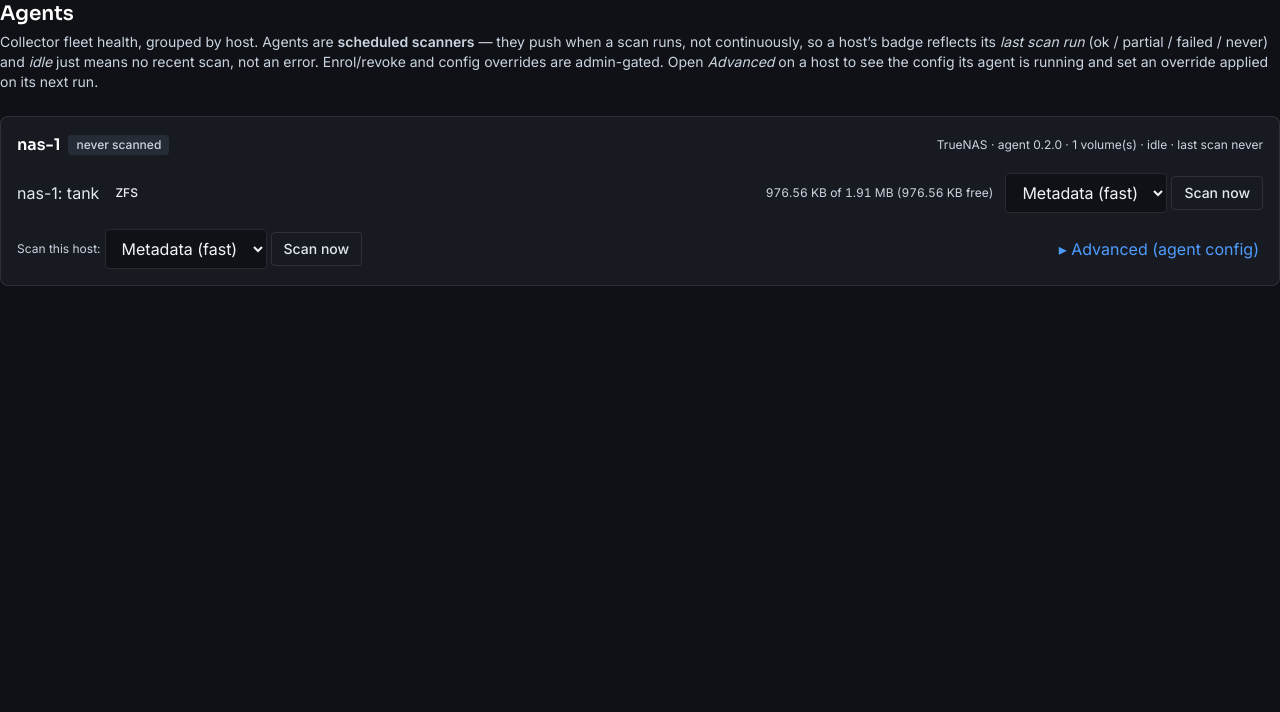
Scenario: Agents page › folds the advanced agent config behind a disclosure (hidden by default)
Expected: the heading "nas-1" is shown, [17,133,60,157]
Expected: the text "effective config" is not shown
Click the button "▸ Advanced (agent config)": (1159, 249) [1055,237,1263,261]
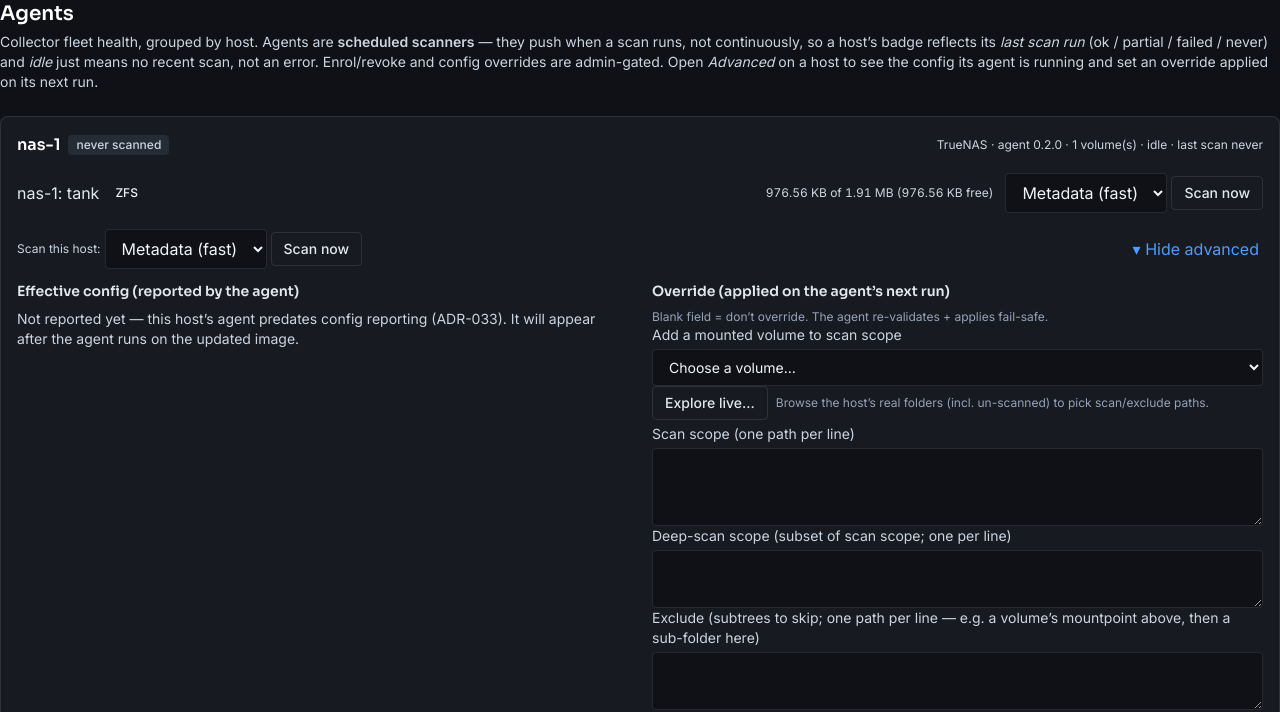
Now the heading "Effective config (reported by the agent)" is shown, box [17,282,299,300]
